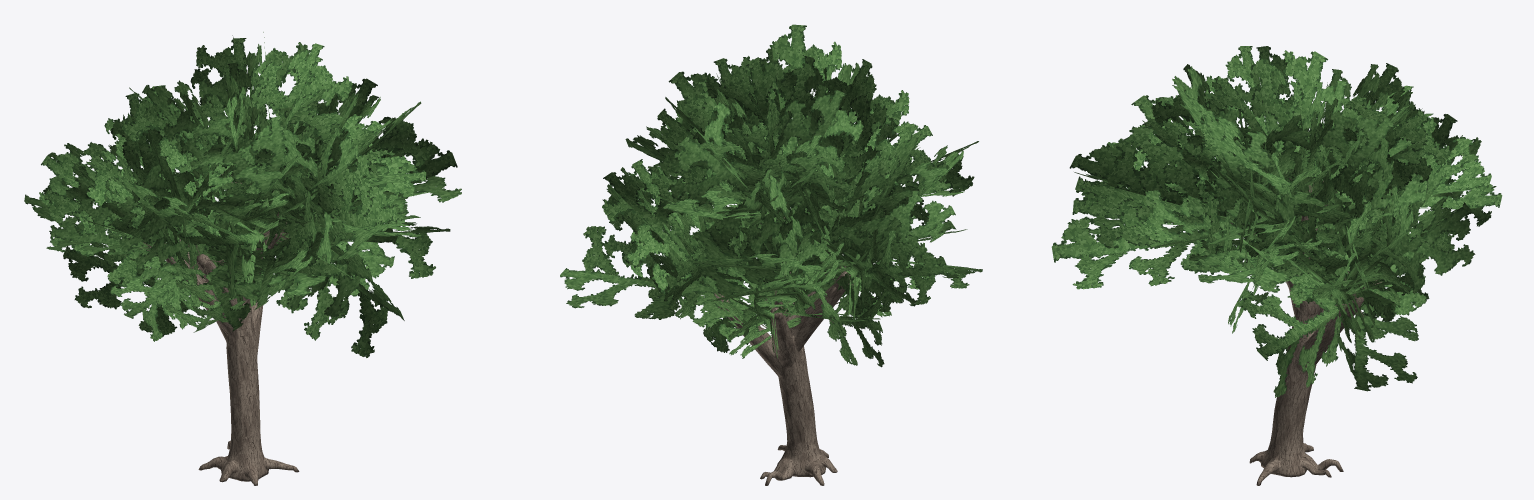
File: environment_elm4_v72.fbx
3 views of the same model, side by side, from view 1: azimuth 30°, elevation 25°; view 2: azimuth 150°, elevation 25°; view 3: azimuth 270°, elevation 25° (orthographic). The views are drawn at different scales.
Visible parts, largest first — view 1: environment_elm4_v72_lod0; view 2: environment_elm4_v72_lod0; view 3: environment_elm4_v72_lod0.
Part boxes in pixels (x1,y1,x2,y2): environment_elm4_v72_lod0: [24, 32, 461, 485]; environment_elm4_v72_lod0: [560, 24, 982, 485]; environment_elm4_v72_lod0: [1051, 46, 1502, 485].
Size of what is drawn, in the model's own units: 2365 by 2526 by 2437.
2 materials, 2 textured.
